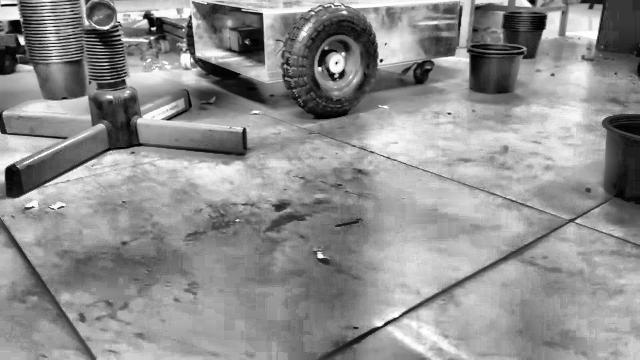pot: (603, 114, 639, 203), (467, 43, 525, 94)
